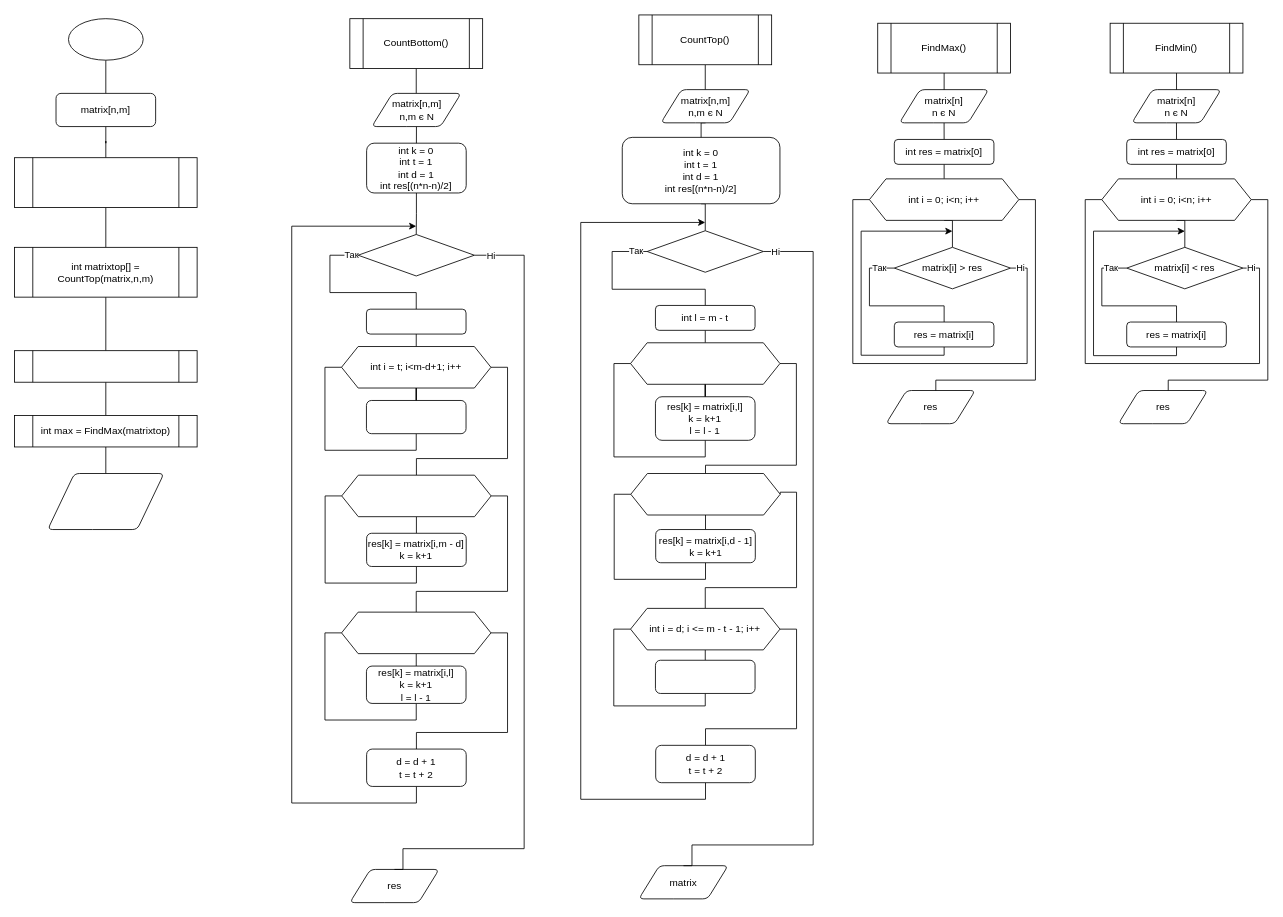
This 1283x917 diagram has some shape labels left out. The shapes that lost their labels are listed below. From the top down, each one's centre as x and y in pixels, then its label:
At pixel 105 39: "start".
At pixel 105 182: "int matrixbot[] = CountBottom(matrix,n,m)".
At pixel 415 255: "(n*n-n)/2 > k".
At pixel 704 251: "(n*n-n)/2 + n> k".
At pixel 416 321: "int l = m - d - 1".
At pixel 105 366: "int min = FindMin(matrixbot)".
At pixel 705 363: "int i = d - 1; i < n - t; i++".
At pixel 416 417: "res[k] = matrix[n-d,i] k = k+1".
At pixel 105 501: "matrixbot, min, matrixtop, max".
At pixel 416 495: "int i = n-d-1; i>t-1; i--".
At pixel 705 494: "int i = n - t - 1; i >= d - 1; i--".
At pixel 416 632: "int i = t; i<n-d; i++".
At pixel 705 676: "res[k] = matrix[d - 1,i] k = k+1".
